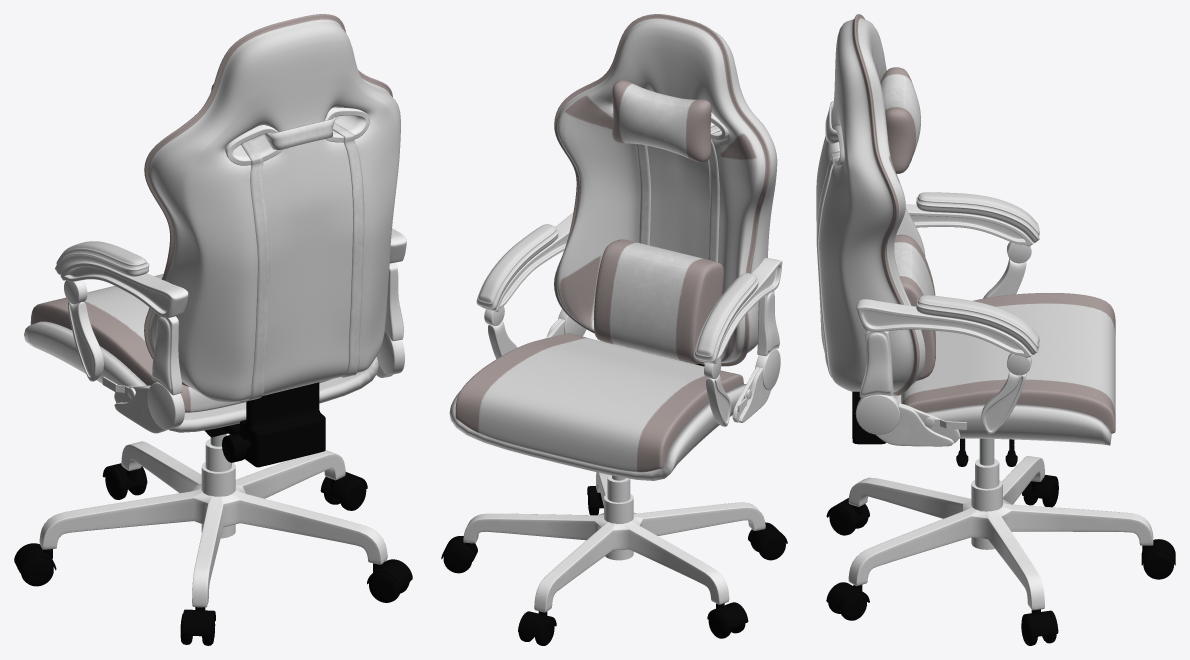
File: Chair35.fbx
The picture shows the model from 3 angles, left to right: view 1: azimuth 30°, elevation 25°; view 2: azimuth 150°, elevation 25°; view 3: azimuth 270°, elevation 25°; orthographic projection. The views are drawn at different scales.
Visible parts, largest first — view 1: Chair35; view 2: Chair35; view 3: Chair35.
Part boxes in pixels (x1,y1,x2,y2): Chair35: (14,14,412,645); Chair35: (441,14,787,645); Chair35: (816,14,1175,645).
Size of the model in its own units: 74.33 by 122 by 72.79.
